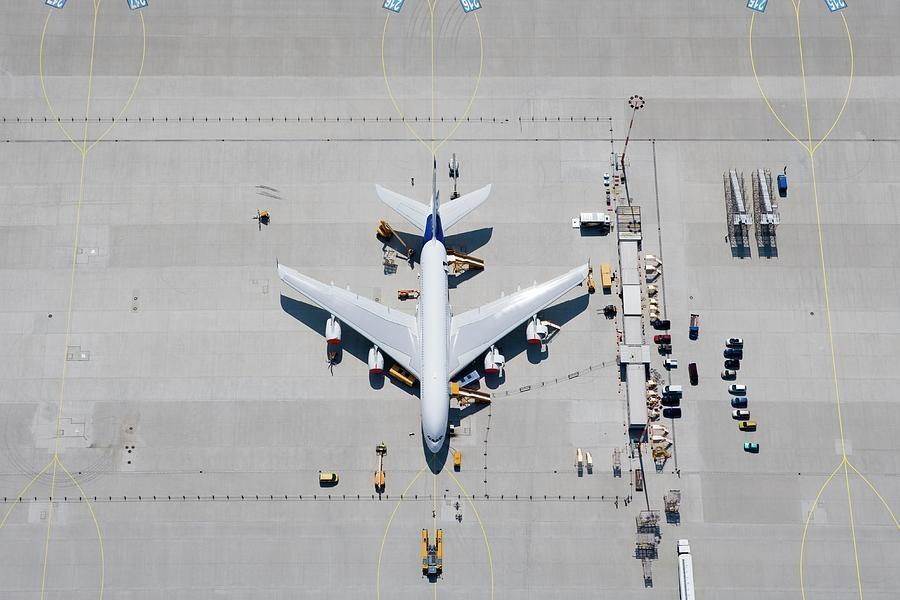Airplane: (266, 146, 602, 468)
Car: (732, 417, 766, 434), (720, 344, 749, 360), (728, 406, 759, 420), (728, 394, 756, 406), (718, 366, 740, 381), (725, 335, 750, 348), (320, 470, 339, 487), (729, 382, 754, 394), (664, 406, 685, 420), (662, 381, 684, 394), (652, 318, 674, 331), (661, 394, 682, 407), (742, 439, 761, 453), (652, 332, 673, 344), (660, 358, 680, 370), (658, 340, 674, 355), (722, 360, 748, 369)
